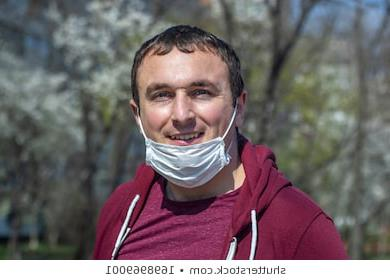mask_weared_incorrect: (140, 72, 230, 181)
